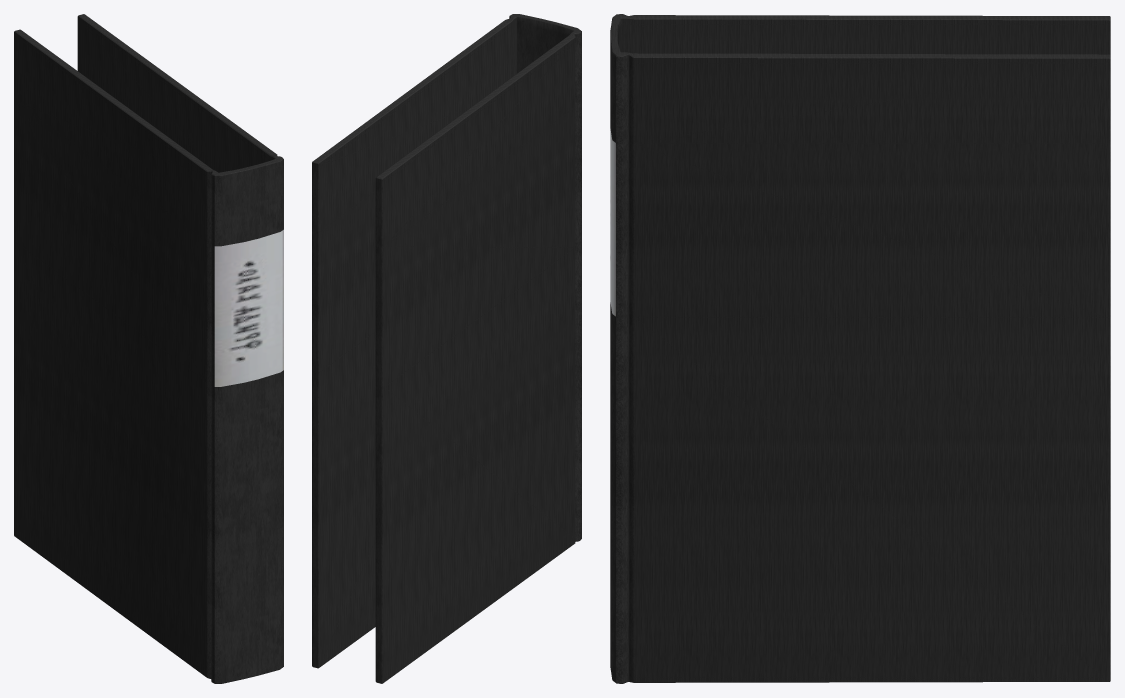
The model's file is Book228.glb.
3 views of the same model, side by side, from view 1: azimuth 30°, elevation 25°; view 2: azimuth 150°, elevation 25°; view 3: azimuth 270°, elevation 25° (orthographic). The views are drawn at different scales.
Visible parts, largest first — view 1: BP_Book228; view 2: BP_Book228; view 3: BP_Book228.
Part boxes in pixels (box(x1,y1,x2,y2)): BP_Book228: box(14, 14, 283, 683); BP_Book228: box(312, 14, 581, 683); BP_Book228: box(610, 14, 1110, 683).
Size of the model in its own units: 0.0445 by 0.306 by 0.2209.
Materials: 2 (2 with a texture image).
